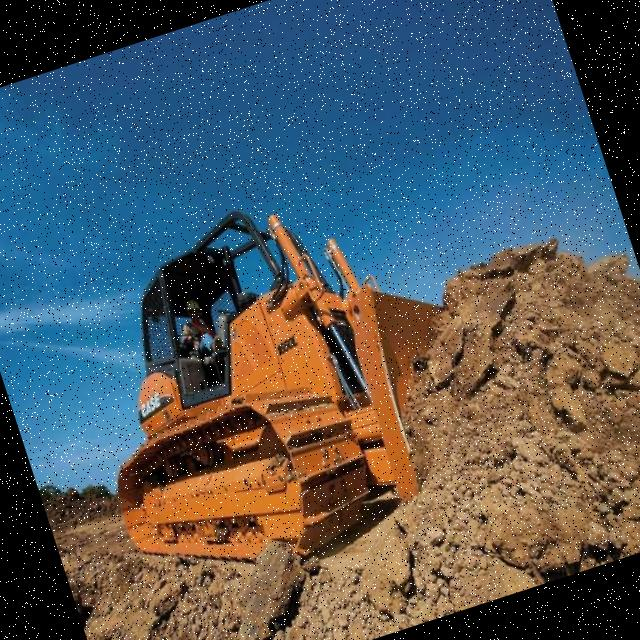Bulldozer: (21, 104, 578, 624)
